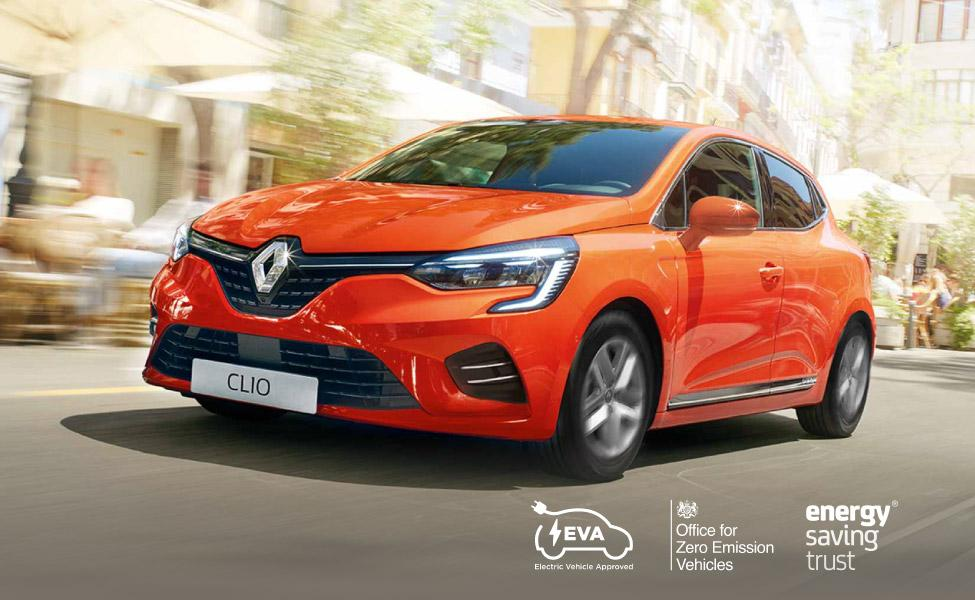Renault: (243, 234, 304, 300)
